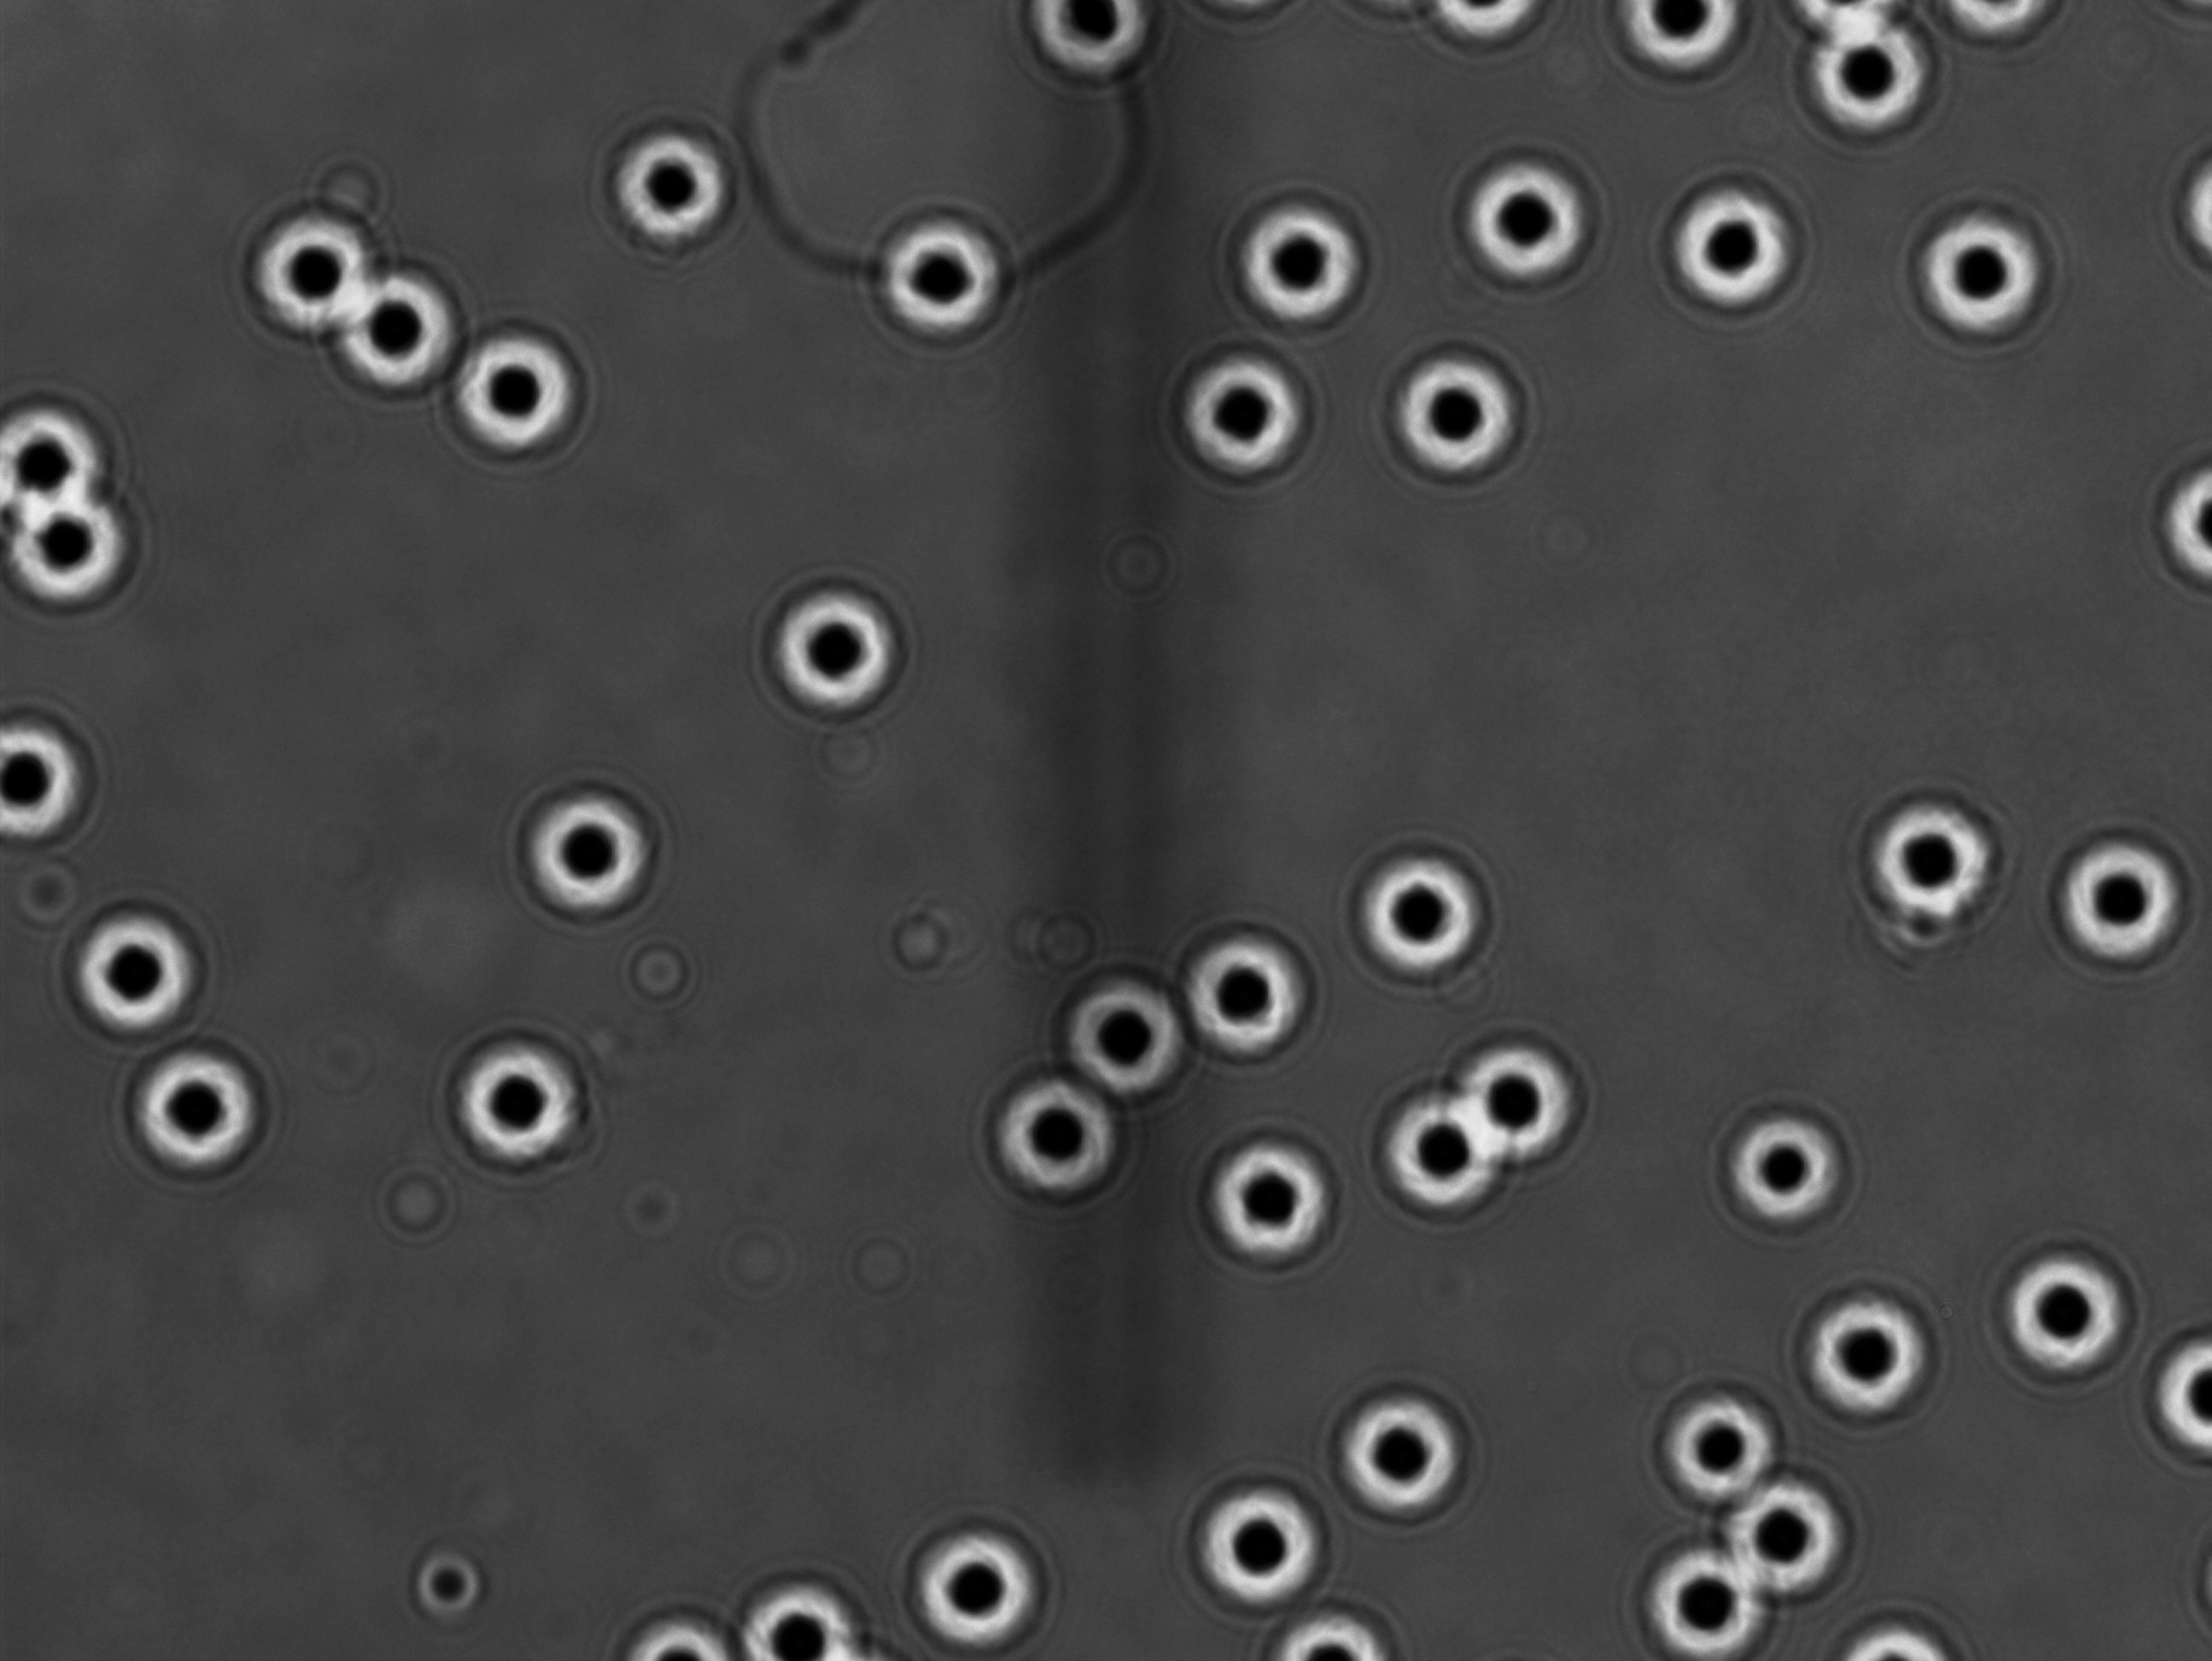depth:-20: (1983, 1200, 2163, 1394), (1853, 771, 2032, 961), (1889, 183, 2074, 359), (1636, 152, 1813, 333), (499, 759, 675, 937), (968, 1063, 1143, 1239), (1165, 897, 1340, 1068), (434, 1021, 611, 1190), (2036, 804, 2203, 982), (52, 899, 237, 1054), (234, 183, 410, 345), (1444, 138, 1615, 302), (1333, 834, 1504, 993), (1322, 1371, 1490, 1532), (1036, 953, 1198, 1117), (1369, 335, 1535, 494), (1190, 1111, 1355, 1270), (748, 579, 919, 731), (127, 1022, 291, 1179), (893, 1514, 1068, 1661), (438, 319, 598, 478), (1179, 1466, 1333, 1631), (1160, 340, 1319, 497), (1638, 1375, 1799, 1525), (851, 197, 1000, 359), (1788, 1272, 1949, 1420), (9, 483, 167, 630), (1212, 190, 1366, 340), (1366, 1073, 1519, 1220), (1713, 1090, 1853, 1251), (338, 269, 487, 410), (1617, 1520, 1765, 1661), (1465, 1022, 1601, 1171), (1724, 1471, 1877, 1602), (598, 122, 738, 265), (1797, 5, 1926, 148), (720, 1569, 891, 1661)
